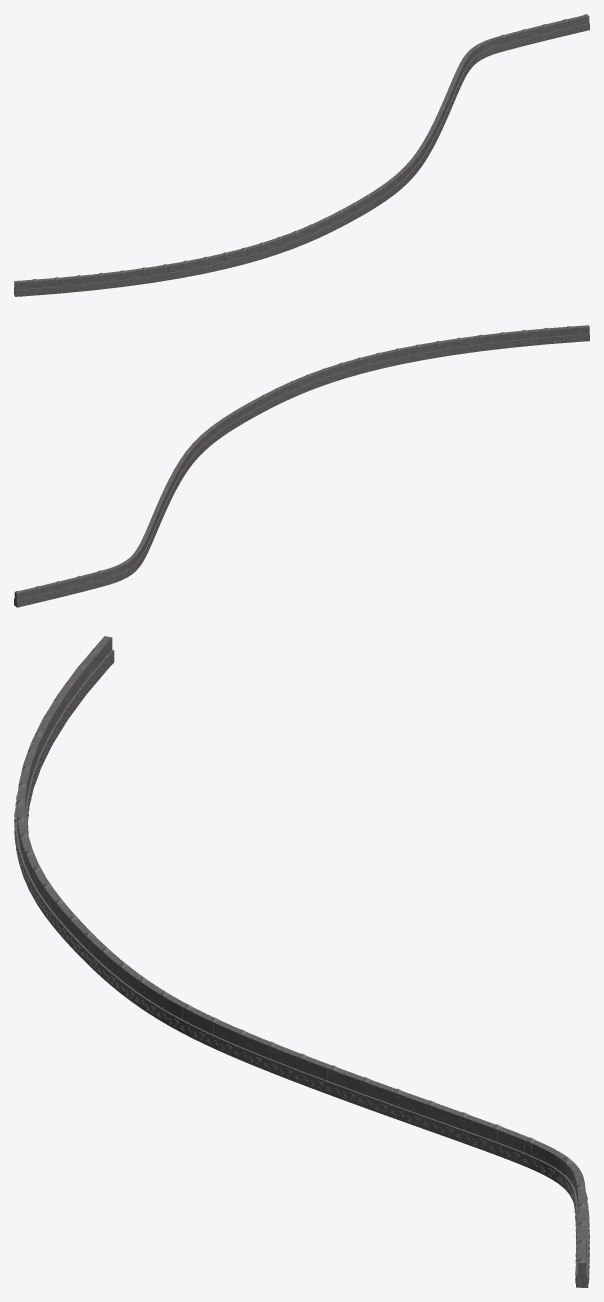
The model's file is Pagarbanyak2.fbx.
The picture shows the model from 3 angles, top to bottom: view 1: azimuth 30°, elevation 25°; view 2: azimuth 210°, elevation 25°; view 3: azimuth 270°, elevation 25°; orthographic projection. The views are drawn at different scales.
Parts seen in each view (by area): view 1: Tembok.003; view 2: Tembok.003; view 3: Tembok.003.
Part boxes in pixels (x1,y1,x2,y2): Tembok.003: (14, 14, 589, 296); Tembok.003: (14, 325, 589, 607); Tembok.003: (14, 636, 589, 1287).
Bounding box in the file's own units: 8570 × 178 × 3326.
